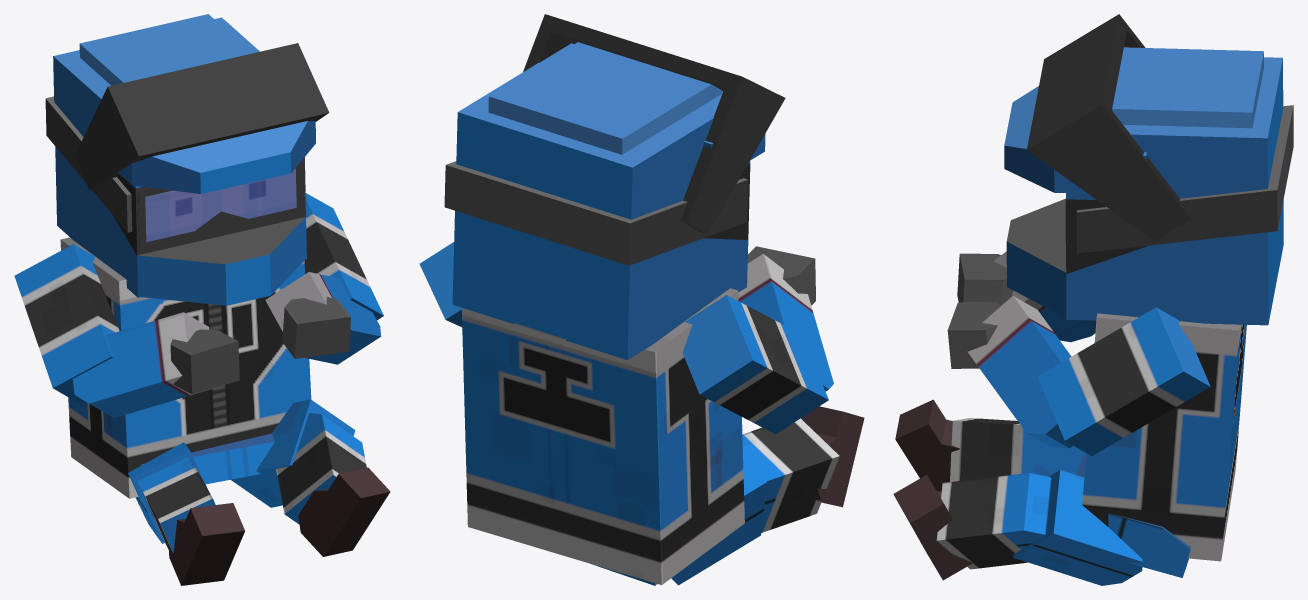
File: SprintCar.fbx
3 views of the same model, side by side, from view 1: azimuth 30°, elevation 25°; view 2: azimuth 150°, elevation 25°; view 3: azimuth 270°, elevation 25° (orthographic). The views are drawn at different scales.
Visible parts, largest first — view 1: Motorcross_Helmet, Racing_Helmet_Open, Body, UpperArm_Right, LowerArm_Right, Foot_Left, LowerLeg_Left, Foot_Right, UpperArm_Left, Hand_Left, Hand_Right, LowerLeg_Right (+5 smaller); view 2: Body, Motorcross_Helmet, Racing_Helmet_Open, UpperArm_Right, LowerLeg_Right, LowerArm_Right, Foot_Right, UpperLeg_Right, UpperArm_Left, Hand_Right, Racing_Helmet; view 3: Motorcross_Helmet, Racing_Helmet, Body, Racing_Helmet_Open, UpperArm_Left, LowerLeg_Left, LowerArm_Left, UpperLeg_Left, LowerLeg_Right, Foot_Right, Foot_Left, LowerBody (+4 smaller).
Part boxes in pixels (bbox=[...]): Motorcross_Helmet: bbox=[45, 14, 315, 305]; Racing_Helmet_Open: bbox=[53, 43, 329, 297]; Body: bbox=[60, 237, 311, 498]; UpperArm_Right: bbox=[14, 244, 119, 404]; LowerArm_Right: bbox=[72, 312, 215, 417]; Foot_Left: bbox=[298, 467, 390, 556]; LowerLeg_Left: bbox=[276, 413, 366, 524]; Foot_Right: bbox=[168, 503, 244, 585]; UpperArm_Left: bbox=[304, 193, 383, 320]; Hand_Left: bbox=[282, 297, 350, 358]; Hand_Right: bbox=[170, 329, 239, 394]; LowerLeg_Right: bbox=[137, 457, 215, 553]; Body: bbox=[461, 288, 744, 584]; Motorcross_Helmet: bbox=[444, 42, 765, 358]; Racing_Helmet_Open: bbox=[511, 14, 785, 359]; UpperArm_Right: bbox=[682, 295, 828, 434]; LowerLeg_Right: bbox=[742, 418, 839, 532]; LowerArm_Right: bbox=[738, 254, 833, 391]; Foot_Right: bbox=[801, 406, 864, 507]; UpperLeg_Right: bbox=[671, 459, 766, 585]; UpperArm_Left: bbox=[419, 242, 462, 327]; Hand_Right: bbox=[747, 246, 815, 305]; Racing_Helmet: bbox=[452, 158, 750, 359]; Motorcross_Helmet: bbox=[1004, 47, 1293, 322]; Racing_Helmet: bbox=[1066, 136, 1283, 325]; Body: bbox=[1082, 313, 1246, 561]; Racing_Helmet_Open: bbox=[1027, 14, 1270, 323]; UpperArm_Left: bbox=[1037, 307, 1210, 455]; LowerLeg_Left: bbox=[936, 473, 1051, 569]; LowerArm_Left: bbox=[967, 296, 1072, 448]; UpperLeg_Left: bbox=[1013, 470, 1142, 585]; LowerLeg_Right: bbox=[950, 418, 1043, 481]; Foot_Right: bbox=[895, 399, 959, 491]; Foot_Left: bbox=[893, 475, 972, 580]; LowerBody: bbox=[1077, 454, 1190, 577].
Size of the model in its own units: 158 by 217 by 158.
1 material, 1 textured.
